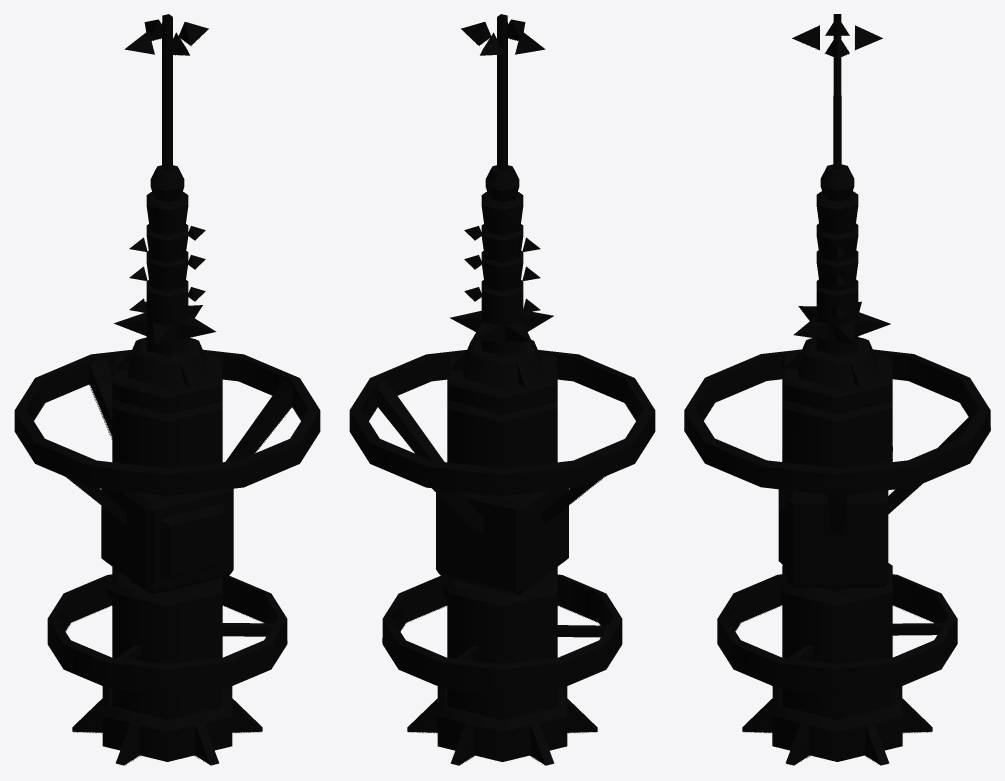
The model's file is sci-fi-machine.glb.
3 renders of one model, left to right at view 1: azimuth 30°, elevation 25°; view 2: azimuth 150°, elevation 25°; view 3: azimuth 270°, elevation 25°, orthographic.
Parts seen in each view (by area): view 1: SciFi_Machine; view 2: SciFi_Machine; view 3: SciFi_Machine.
Part boxes in pixels (box(x1,y1,x2,y2)): SciFi_Machine: box(14, 14, 320, 765); SciFi_Machine: box(349, 14, 655, 765); SciFi_Machine: box(684, 14, 990, 765).
Size of the model in its own units: 2.18 by 5.6 by 2.18.
3 materials, 2 textured.
